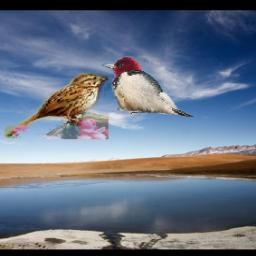Sparrow: (3, 72, 108, 140)
Woodpecker: (102, 57, 196, 118)
